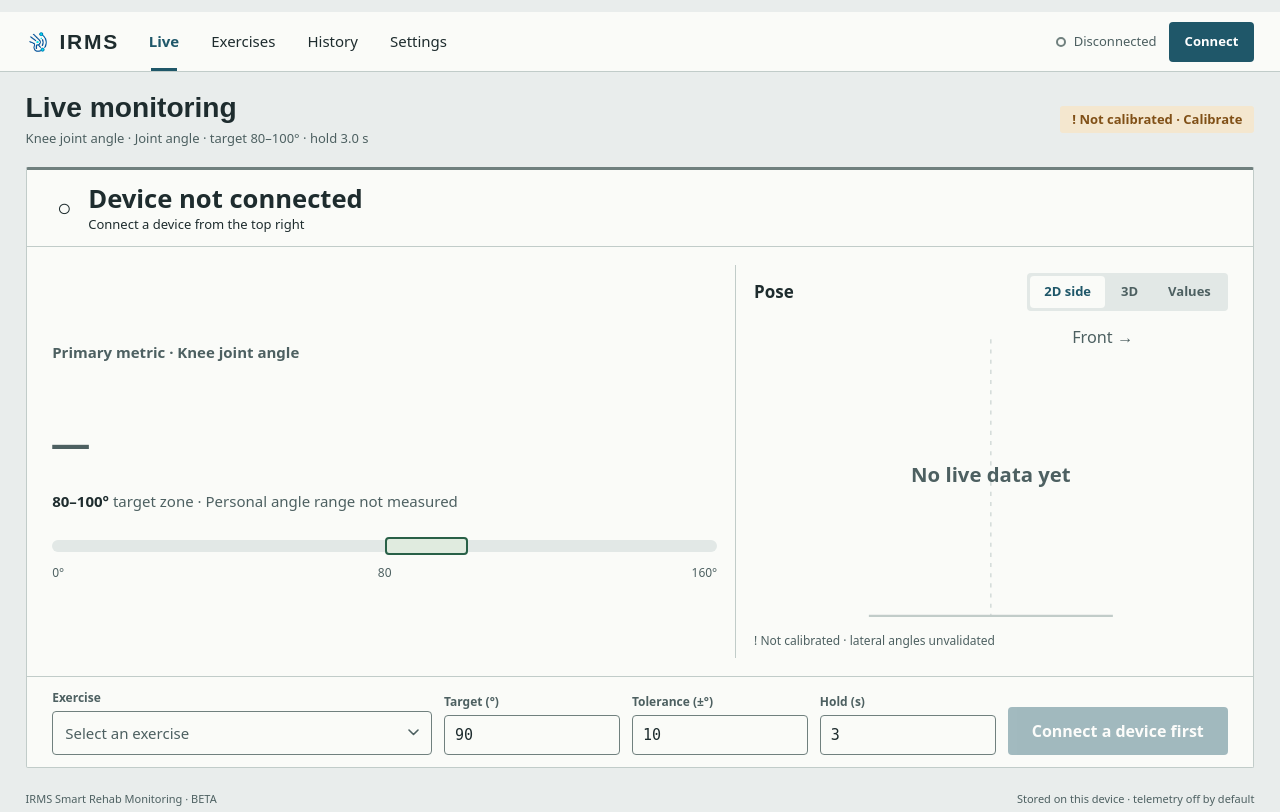
Test: views render no CJK with language = en › session history list and review
Click the button "History".
click(333, 42)  # box [295,12,370,71]
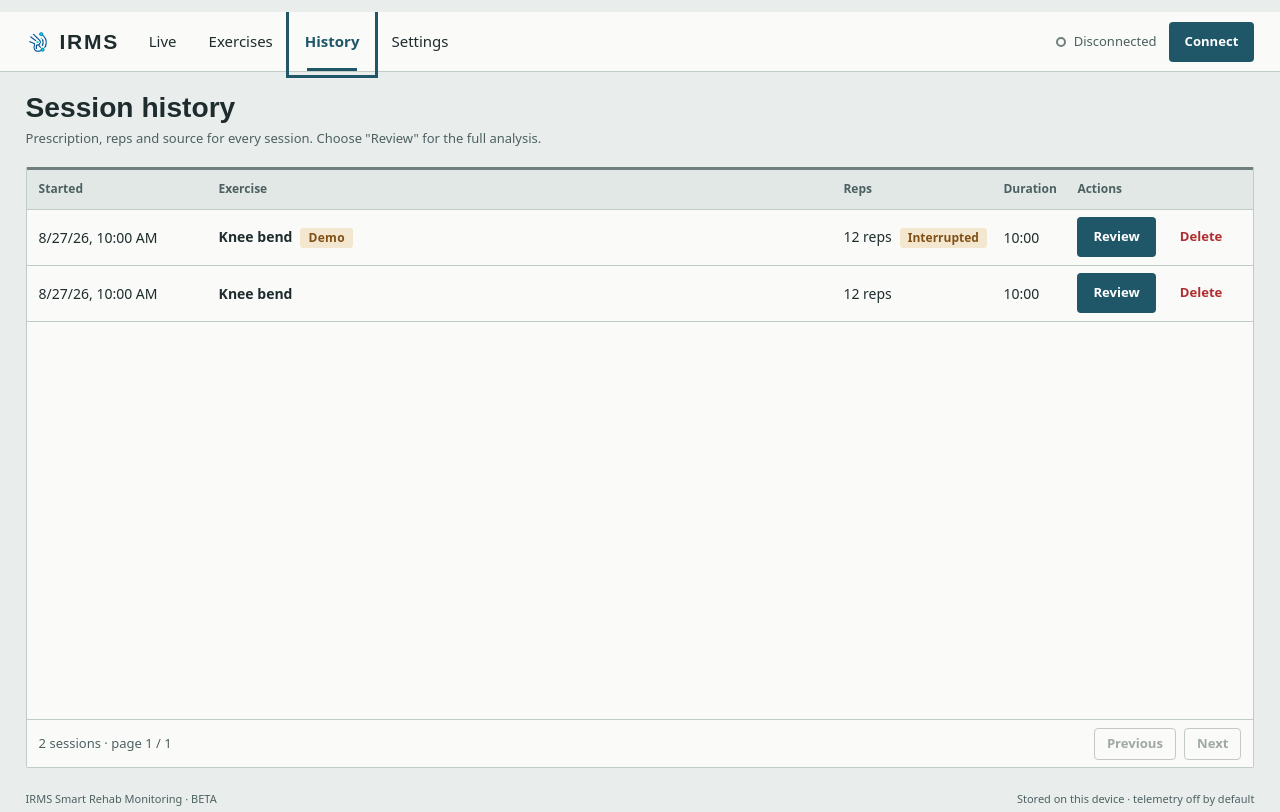
Click the button "Review" in the row of "Interrupted".
click(1117, 237)  # box [1077,217,1156,257]
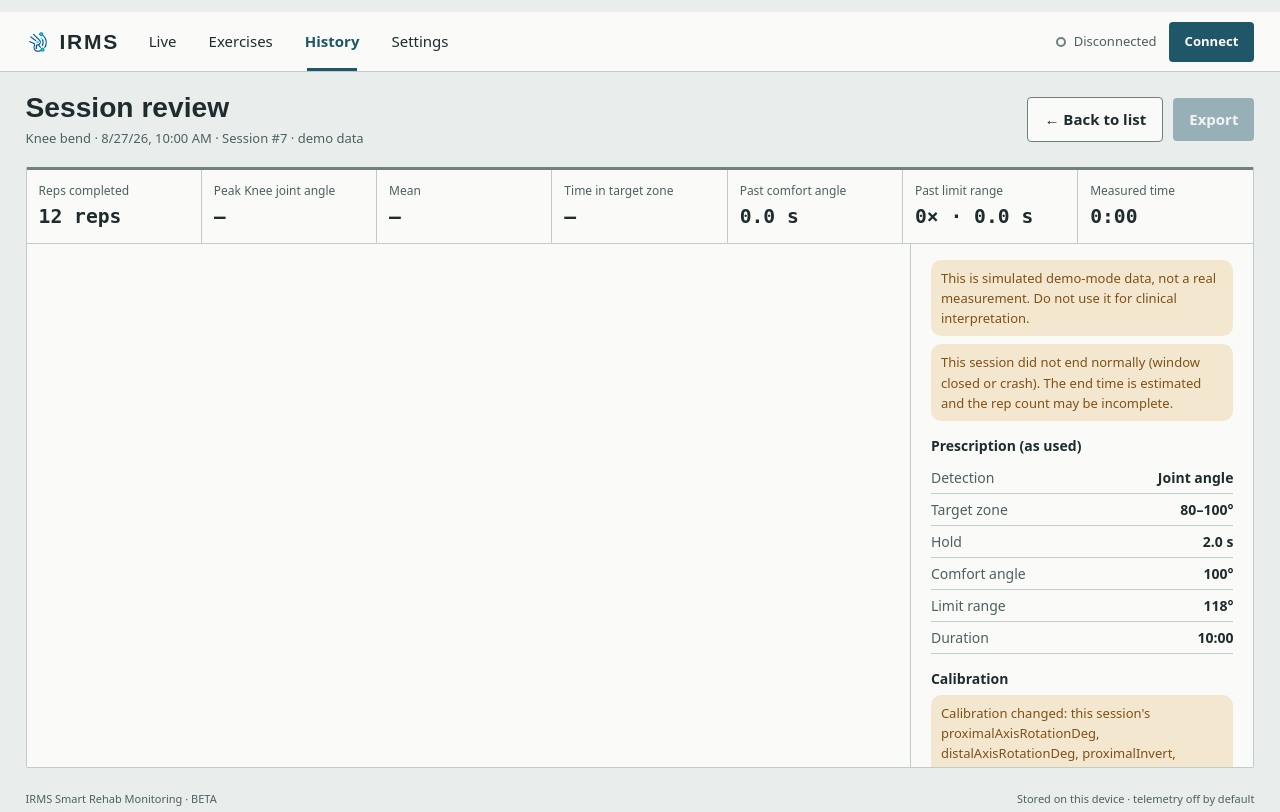
Check: the heading "Session review" is shown, box [26,92,229,123]
